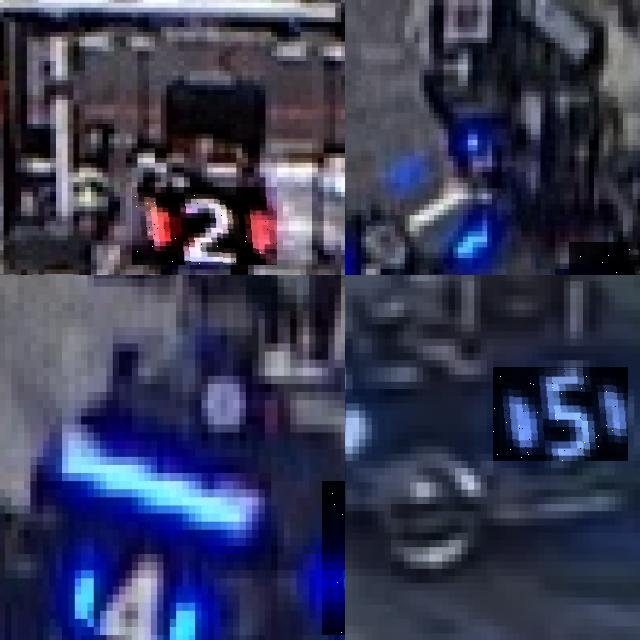B1: (385, 150, 492, 264), (345, 236, 414, 275)
B4: (68, 546, 188, 640), (321, 481, 345, 635)
B5: (493, 367, 628, 461)
R2: (132, 187, 277, 265)
